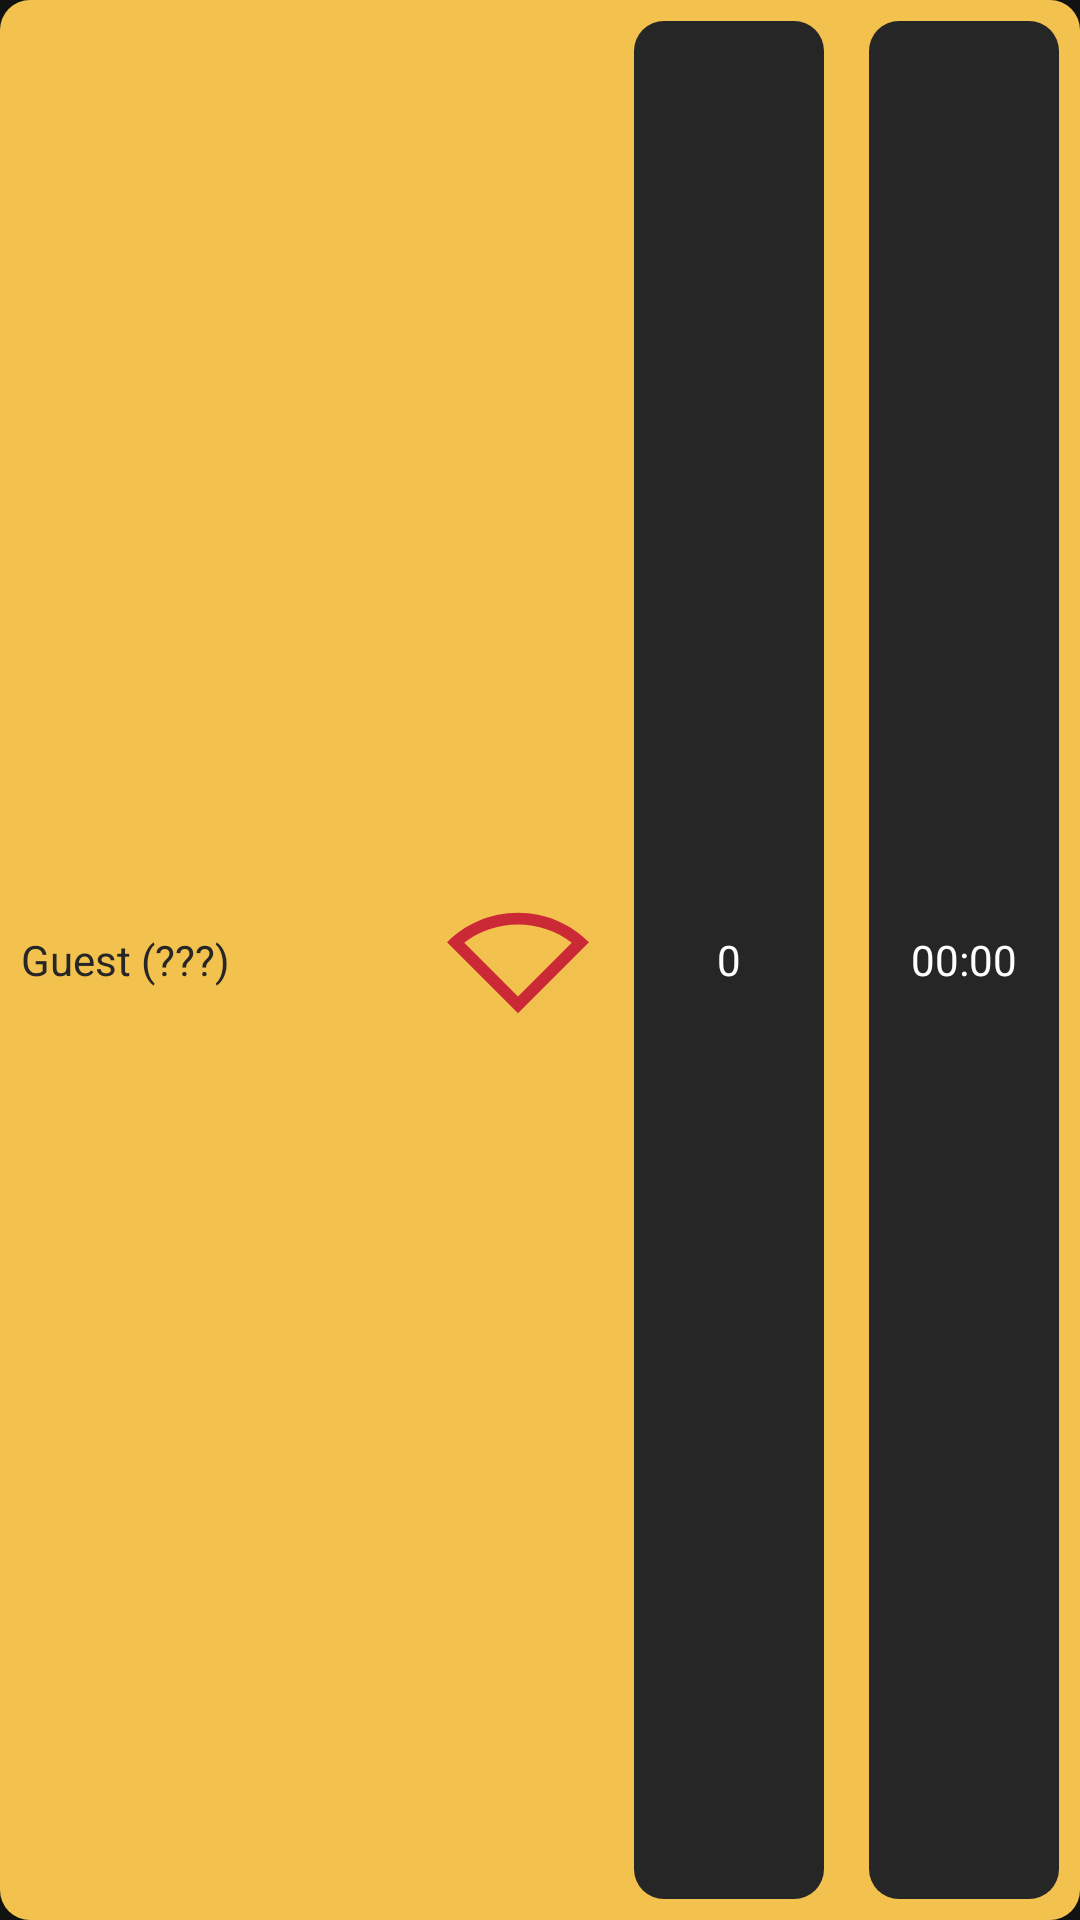

Icons on this 1080*1920 Android screen, each with its box as bbox(x1, y1, x2, y2):
wifi: bbox(447, 912, 589, 1013)
